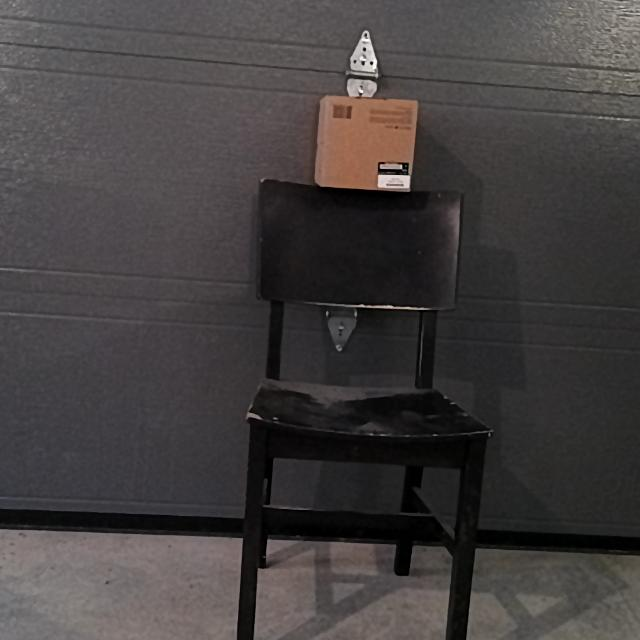box: (324, 99, 413, 190)
